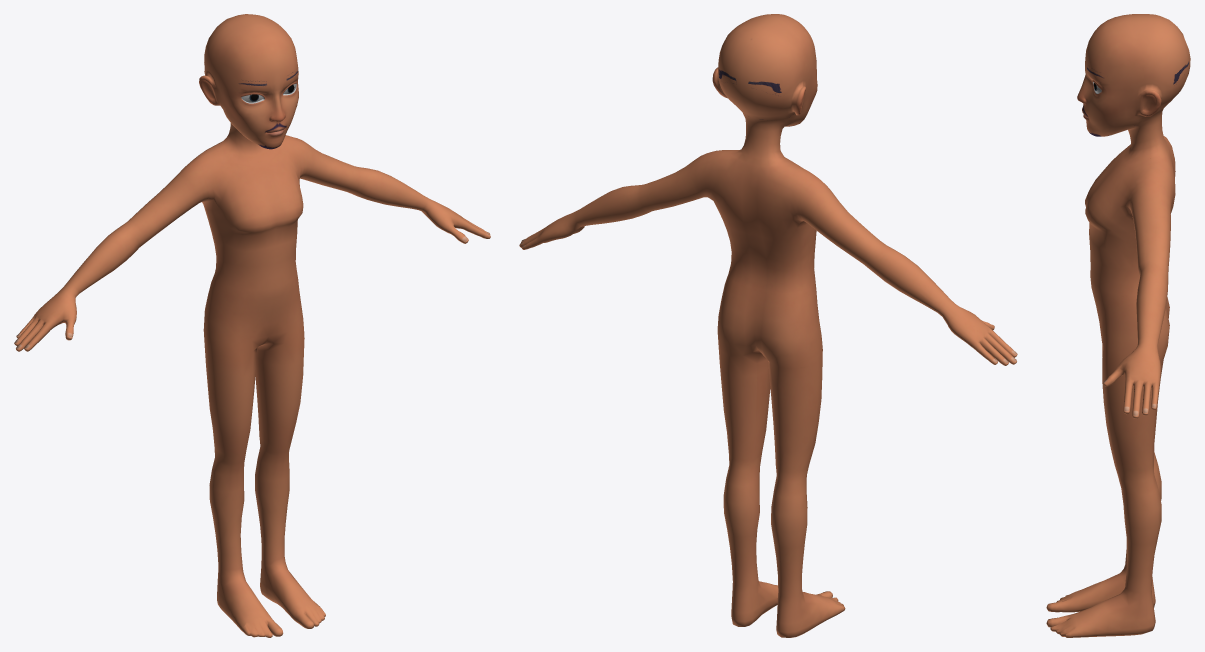
File: frame_0004.glb
3 views of the same model, side by side, from view 1: azimuth 30°, elevation 25°; view 2: azimuth 150°, elevation 25°; view 3: azimuth 270°, elevation 25° (orthographic). The views are drawn at different scales.
Visible parts, largest first — view 1: frame_0004_head_geo; view 2: frame_0004_head_geo; view 3: frame_0004_head_geo.
Boxes of the visible parts, box(x1,y1,x2,y2) form: frame_0004_head_geo: box(14, 14, 490, 637); frame_0004_head_geo: box(519, 14, 1017, 637); frame_0004_head_geo: box(1046, 14, 1190, 637).
Size of the model in its own units: 1.28 by 1.5 by 0.3253.
4 materials, 2 textured.
